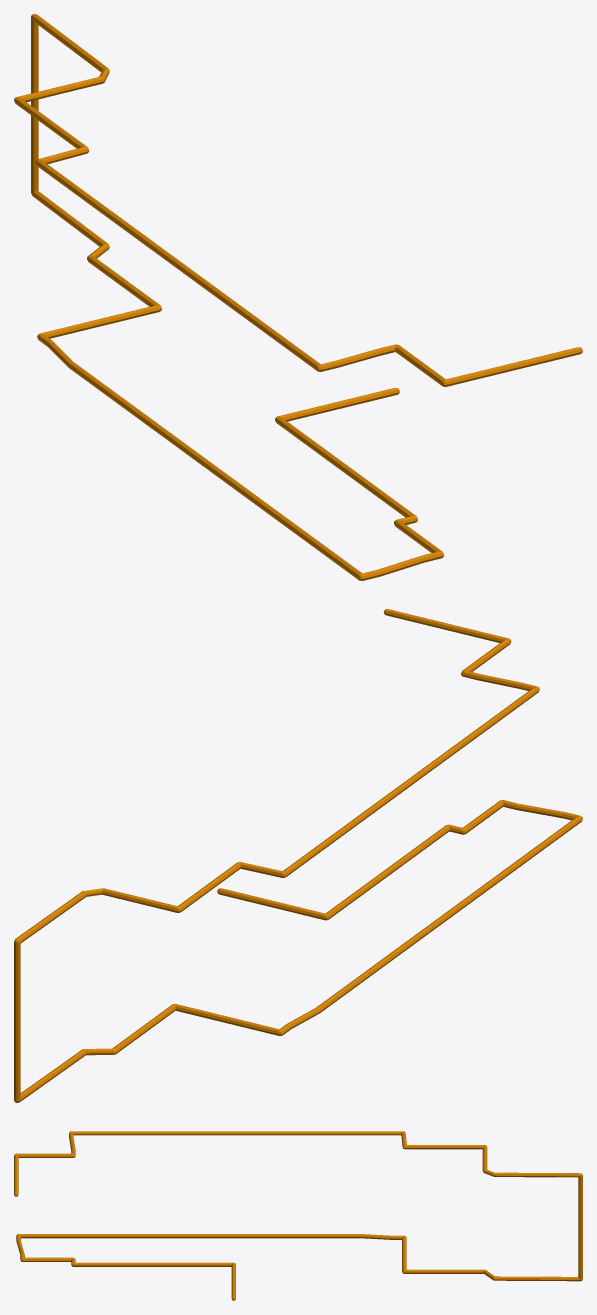
The picture shows the model from 3 angles, top to bottom: view 1: azimuth 30°, elevation 25°; view 2: azimuth 150°, elevation 25°; view 3: azimuth 270°, elevation 25°; orthographic projection. The views are drawn at different scales.
Bounding box in the file's own units: 666 × 520 × 2485.
